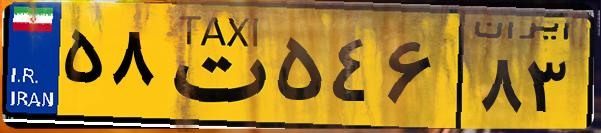3: (525, 38, 570, 115)
4: (330, 28, 385, 110)
5: (270, 28, 330, 110), (57, 26, 110, 100)
6: (385, 28, 445, 110)
8: (475, 38, 525, 113), (110, 28, 158, 98)
ت: (158, 12, 270, 120)
